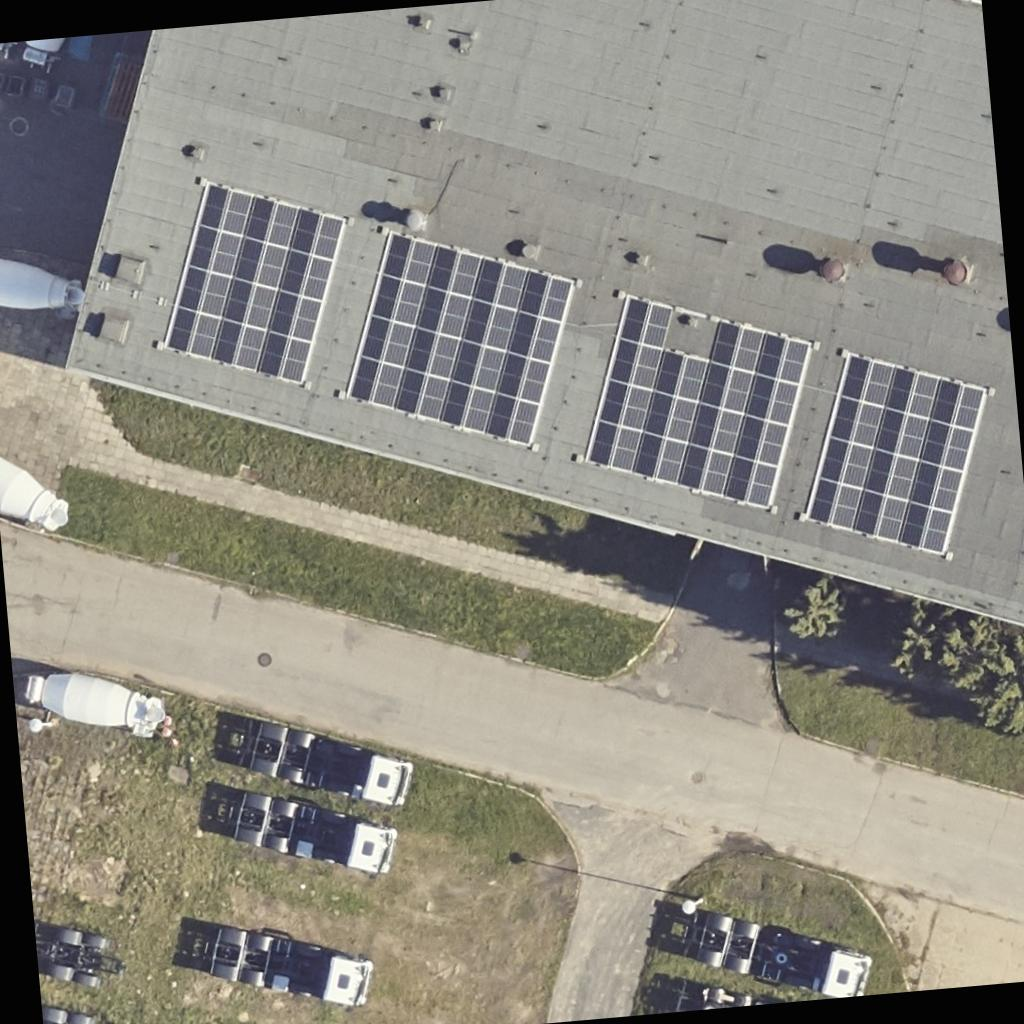betoniarka: (0, 451, 68, 534)
